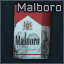Malboro Cigarettes: (0, 0, 64, 64)
